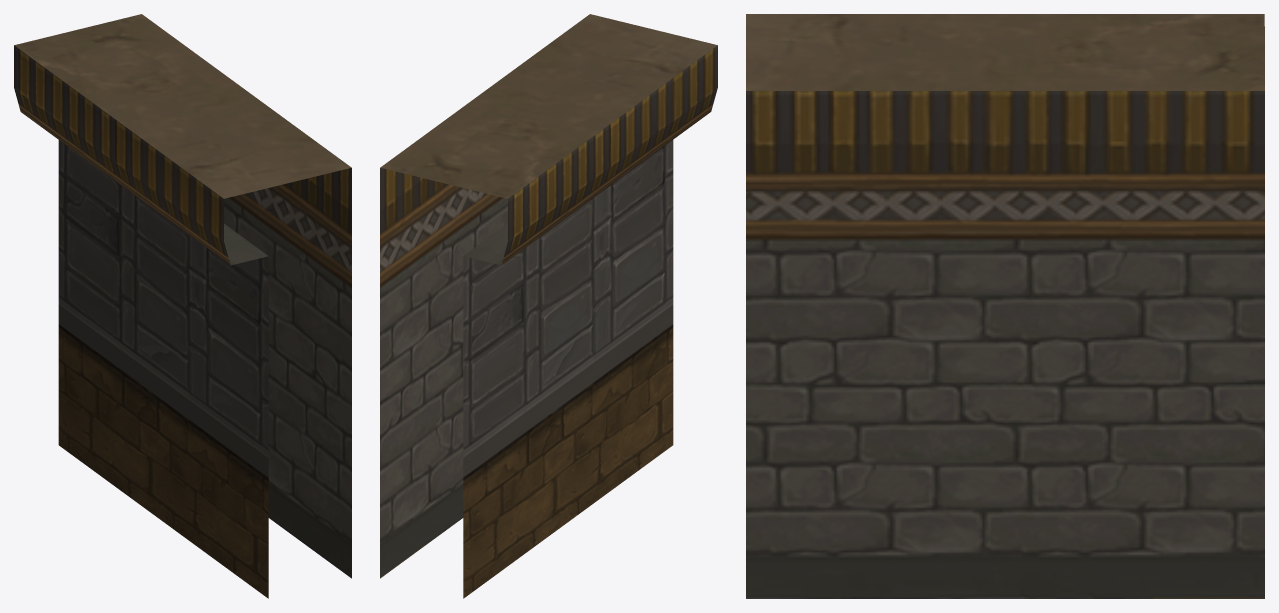
The model's file is Battle06_Wall_09.FBX.
3 views of the same model, side by side, from view 1: azimuth 30°, elevation 25°; view 2: azimuth 150°, elevation 25°; view 3: azimuth 270°, elevation 25° (orthographic). The views are drawn at different scales.
Visible parts, largest first — view 1: Battle06_Wall_09; view 2: Battle06_Wall_09; view 3: Battle06_Wall_09.
Part boxes in pixels (left/top/right/bottom): Battle06_Wall_09: left=14, top=14, right=351, bottom=598; Battle06_Wall_09: left=380, top=14, right=717, bottom=598; Battle06_Wall_09: left=746, top=14, right=1264, bottom=598.
Bounding box in the file's own units: 3.02 × 9.27 × 8.59.
